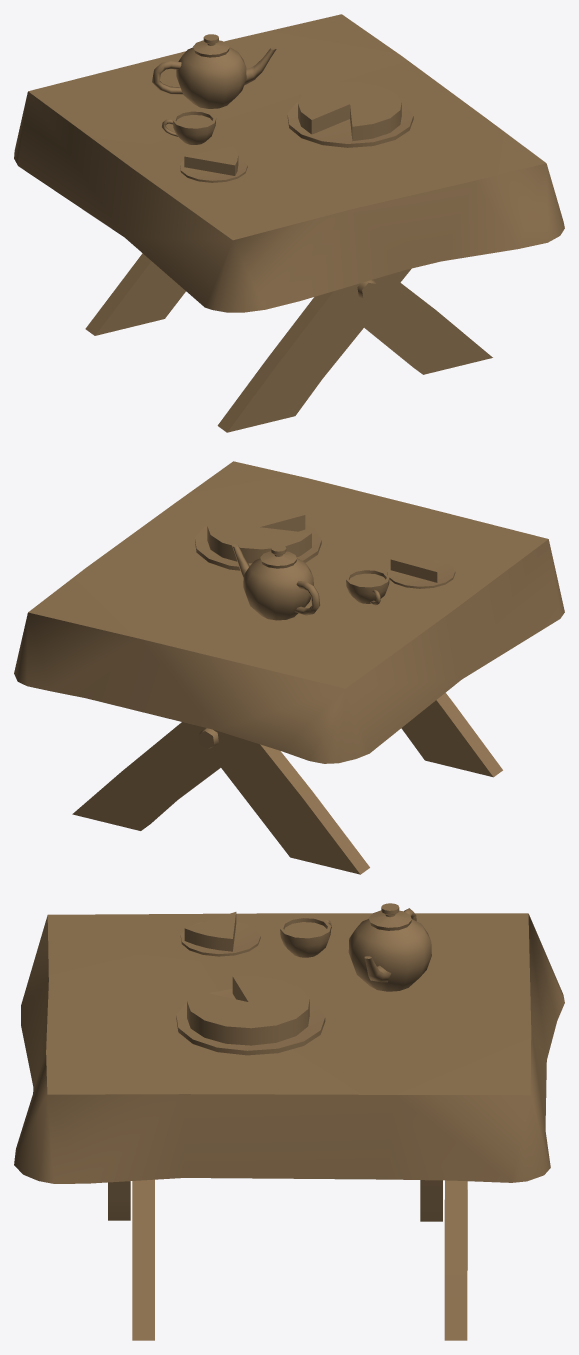
Rendered from table_Lv3.fbx.
3 views of the same model, one above another, from view 1: azimuth 30°, elevation 25°; view 2: azimuth 150°, elevation 25°; view 3: azimuth 270°, elevation 25° (orthographic). The views are drawn at different scales.
Visible parts, largest first — view 1: table_2lvl; view 2: table_2lvl; view 3: table_2lvl.
Part boxes in pixels (x1,y1,x2,y2): table_2lvl: (14,14,564,432); table_2lvl: (14,461,564,874); table_2lvl: (14,903,564,1340).
Bounding box in the file's own units: 89.33 × 68.31 × 102.
